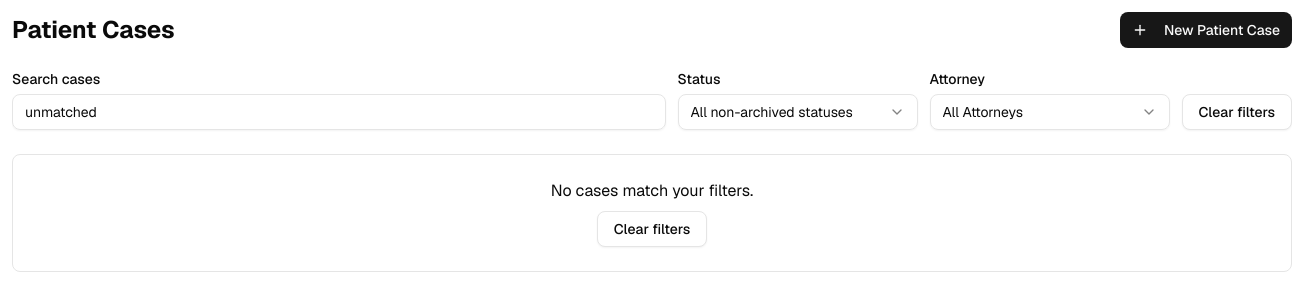
Test: clears unmatched persisted filters: {"search":"unmatched","status":"all","attorney":"all"}
Expected: the text "No cases match your filters." is shown, [551,180,753,201]
Click the 1st button "Clear filters": (1237, 112) [1182,94,1292,130]
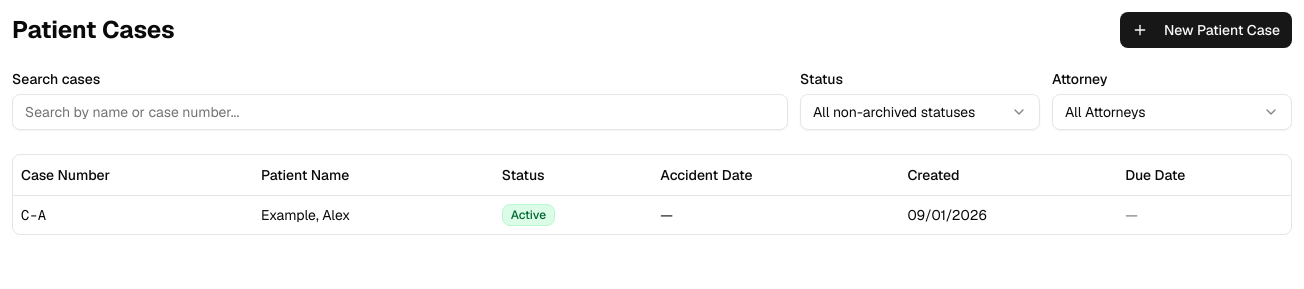
Expected: the link "C-A" is shown, [21,206,46,224]
